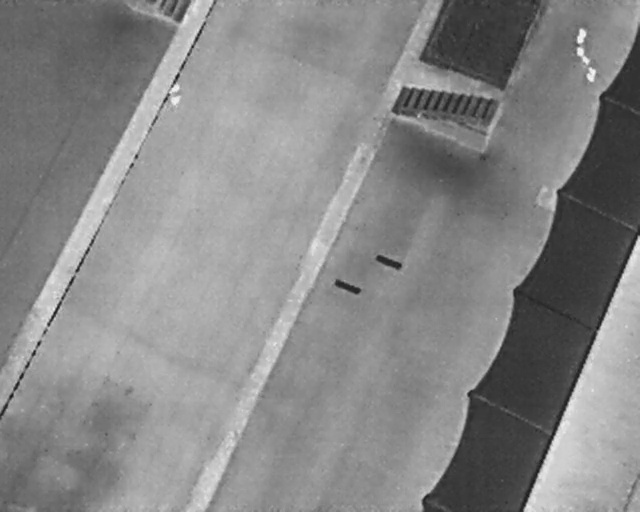Person: (169, 82, 183, 108)
